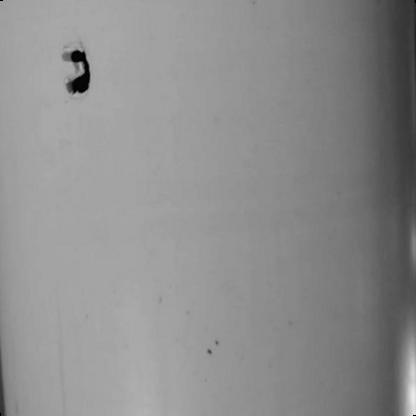kongdong: (55, 40, 95, 102)
